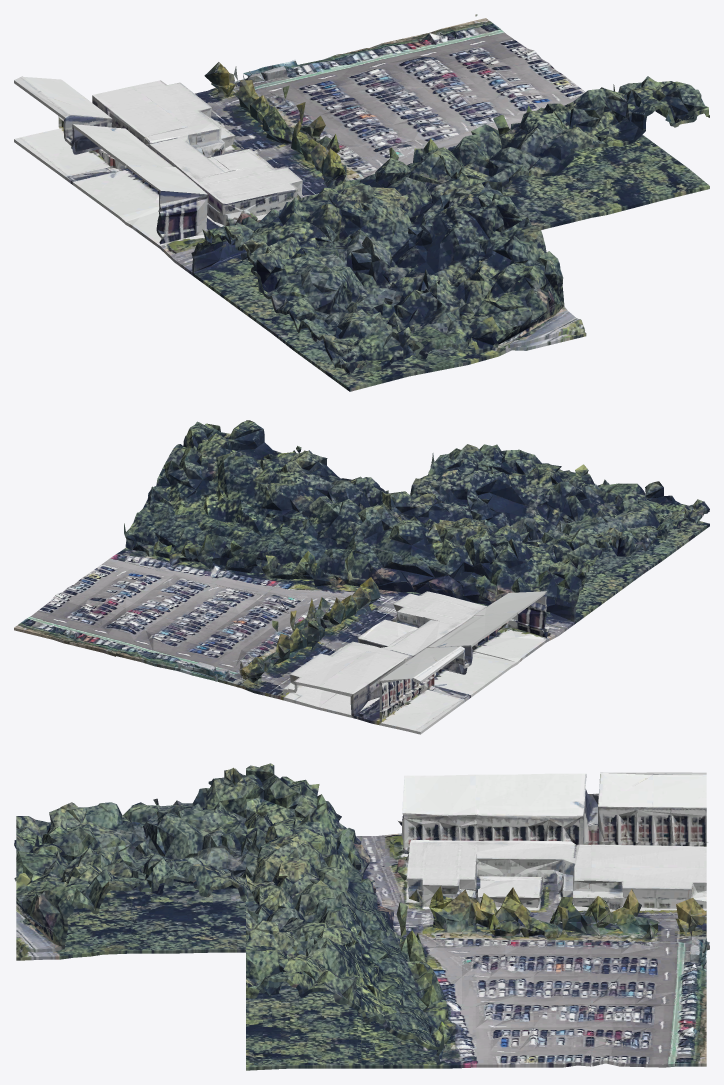
The model's file is Split29.fbx.
The picture shows the model from 3 angles, top to bottom: view 1: azimuth 30°, elevation 25°; view 2: azimuth 150°, elevation 25°; view 3: azimuth 270°, elevation 25°; orthographic projection. The views are drawn at different scales.
Visible parts, largest first — view 1: BuildingMesh-00061; view 2: BuildingMesh-00061; view 3: BuildingMesh-00061.
Part boxes in pixels (left/top/right/bottom): BuildingMesh-00061: left=14, top=14, right=709, bottom=391; BuildingMesh-00061: left=14, top=420, right=709, bottom=734; BuildingMesh-00061: left=14, top=763, right=709, bottom=1070.
Size of the model in its own units: 196 by 40.78 by 241.
8 materials, 8 textured.
